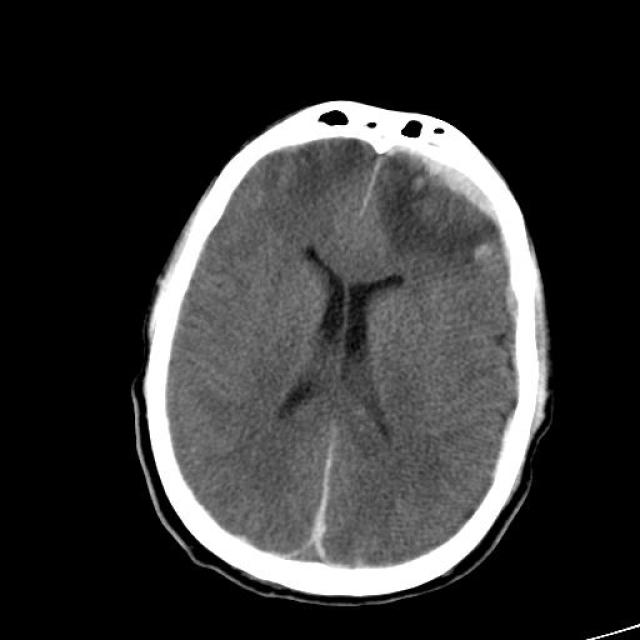Intraparenchymal: (431, 236, 504, 286)
Subdural: (359, 139, 520, 276), (268, 423, 382, 578)
